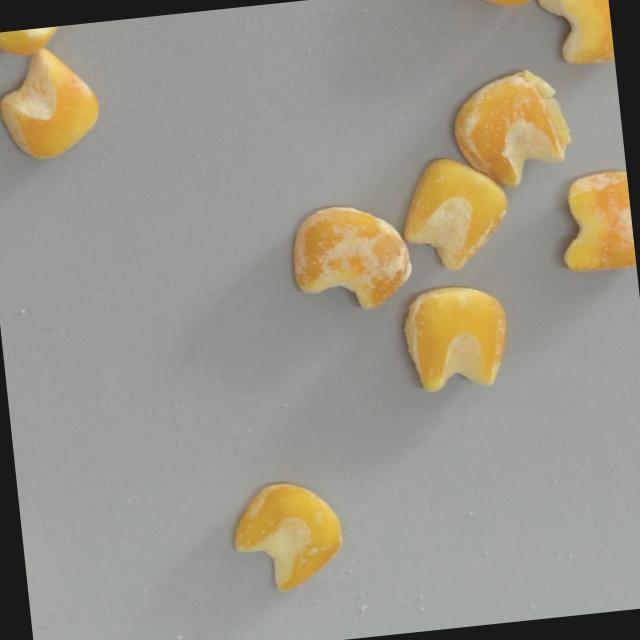pelicula: (444, 65, 575, 193), (285, 199, 416, 318), (394, 152, 515, 278), (225, 477, 348, 597), (400, 283, 514, 397), (0, 45, 103, 163), (553, 167, 636, 274), (536, 0, 615, 71), (0, 25, 69, 61), (441, 0, 553, 17)
